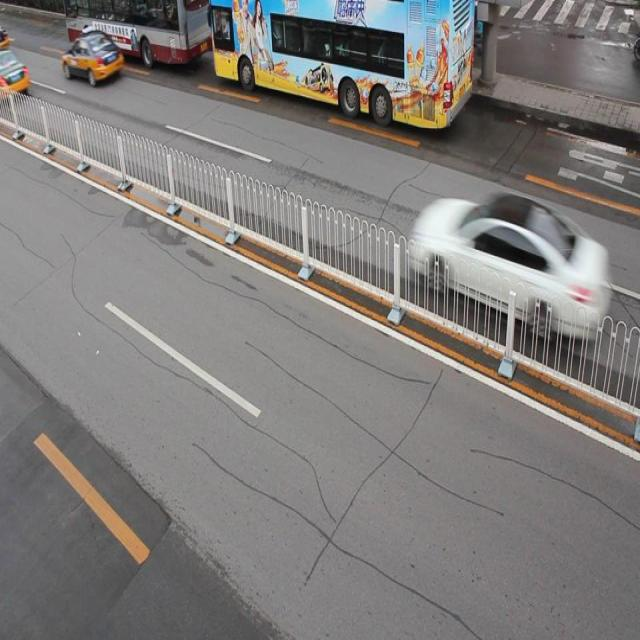car: (410, 192, 600, 343), (61, 29, 124, 86), (1, 50, 30, 100)
van: (209, 1, 474, 127), (63, 1, 210, 64)
